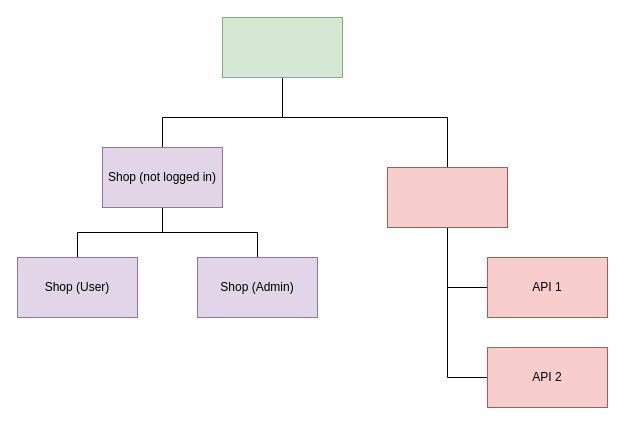
The diagram is 625 pixels wide and 425 high, and some of its shapes have lost their labels. The shapes that lost their labels are listed below. From the top down, each one's centre as x and y in pixels, then its label:
At (282,47): "Home".
At (447,197): "API".
